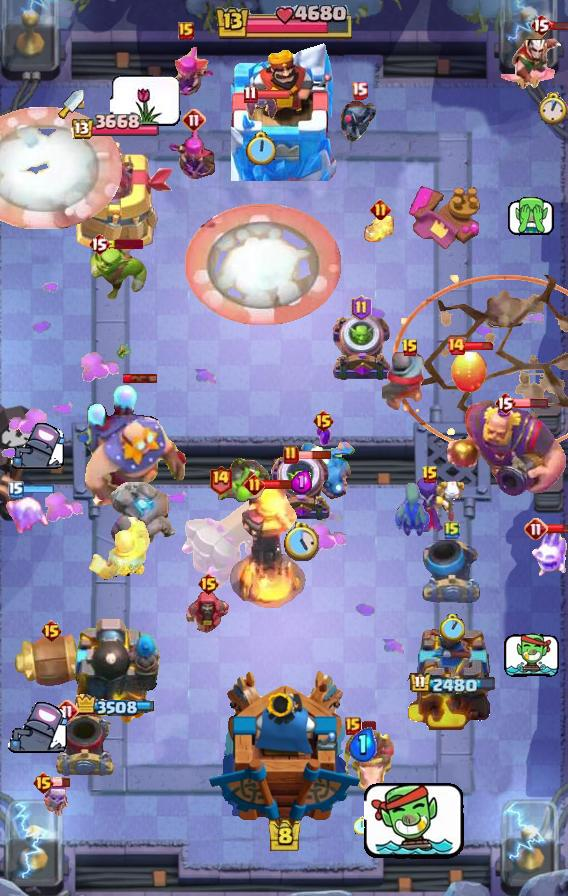archer-evolution: (157, 44, 215, 106), (169, 129, 219, 181)
bar: (513, 397, 549, 409), (255, 89, 291, 100), (123, 373, 158, 384), (22, 484, 56, 495), (262, 479, 296, 490), (107, 239, 143, 249), (297, 450, 332, 460), (464, 341, 496, 351), (545, 523, 568, 534), (358, 720, 378, 731), (52, 777, 71, 788), (550, 20, 568, 31)
bar-level: (208, 464, 233, 495), (55, 699, 79, 723), (524, 517, 548, 541), (182, 108, 206, 132), (32, 771, 55, 795), (40, 619, 63, 643), (197, 572, 220, 596), (312, 409, 335, 433), (351, 295, 372, 321), (494, 391, 516, 415), (88, 232, 110, 256), (530, 13, 552, 37), (244, 474, 265, 495), (370, 199, 391, 220), (446, 336, 466, 356), (421, 465, 439, 485), (401, 338, 419, 358), (351, 81, 368, 100), (444, 520, 460, 540), (283, 445, 299, 465), (345, 717, 361, 735), (8, 481, 24, 499), (178, 22, 194, 40), (243, 85, 258, 104)
barbarian-barrel: (11, 634, 91, 688)
bat: (244, 92, 280, 122)
cannoneer-tower: (67, 611, 161, 731)
clock: (284, 522, 319, 561), (246, 131, 278, 168), (538, 92, 568, 126), (439, 614, 465, 642), (354, 816, 371, 835)
dagger-duchess-tower: (55, 142, 174, 256)
electro-dragon: (288, 437, 358, 501)
elixir: (348, 727, 377, 762), (291, 470, 312, 494)
emote: (364, 780, 467, 864), (110, 74, 182, 126), (6, 702, 67, 755), (9, 423, 64, 471), (503, 633, 559, 678), (507, 197, 556, 236)
goblin: (393, 480, 431, 538)
goblin-ball: (214, 455, 272, 503)
goblin-brawler: (85, 243, 147, 299)
golemite: (107, 482, 177, 550)
ice-spirit-evolution: (528, 528, 568, 578), (3, 495, 53, 533)
king-tower: (207, 669, 362, 826), (231, 43, 337, 181)
king-tower-bar: (213, 5, 355, 43)
knight: (88, 517, 151, 581), (382, 349, 438, 413)
lava-pup: (363, 216, 397, 248)
mini-pekka: (338, 99, 380, 143)
mortar: (54, 712, 116, 780), (422, 539, 482, 603)
mortar-evolution: (269, 453, 333, 523), (329, 313, 393, 383)
phoenix-egg: (449, 350, 489, 394)
queen-tower: (405, 617, 501, 731)
skeleton-evolution: (39, 783, 71, 823)
tower-bar: (69, 114, 159, 142), (409, 672, 497, 696), (74, 694, 154, 717)
witch: (396, 474, 464, 536)
wizard: (184, 589, 232, 637)
